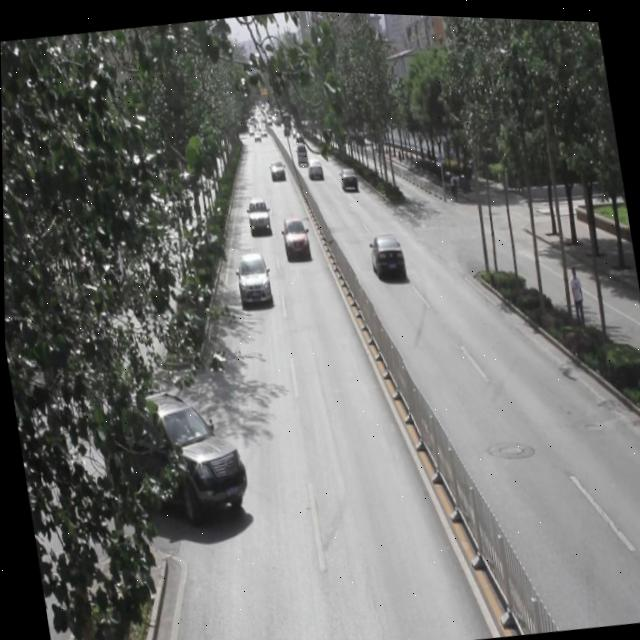car: (95, 377, 249, 535), (233, 248, 272, 308), (367, 227, 407, 284), (279, 213, 312, 259), (245, 192, 273, 234), (338, 163, 358, 189), (305, 153, 324, 177), (268, 156, 286, 179)
truck: (295, 140, 308, 165)
